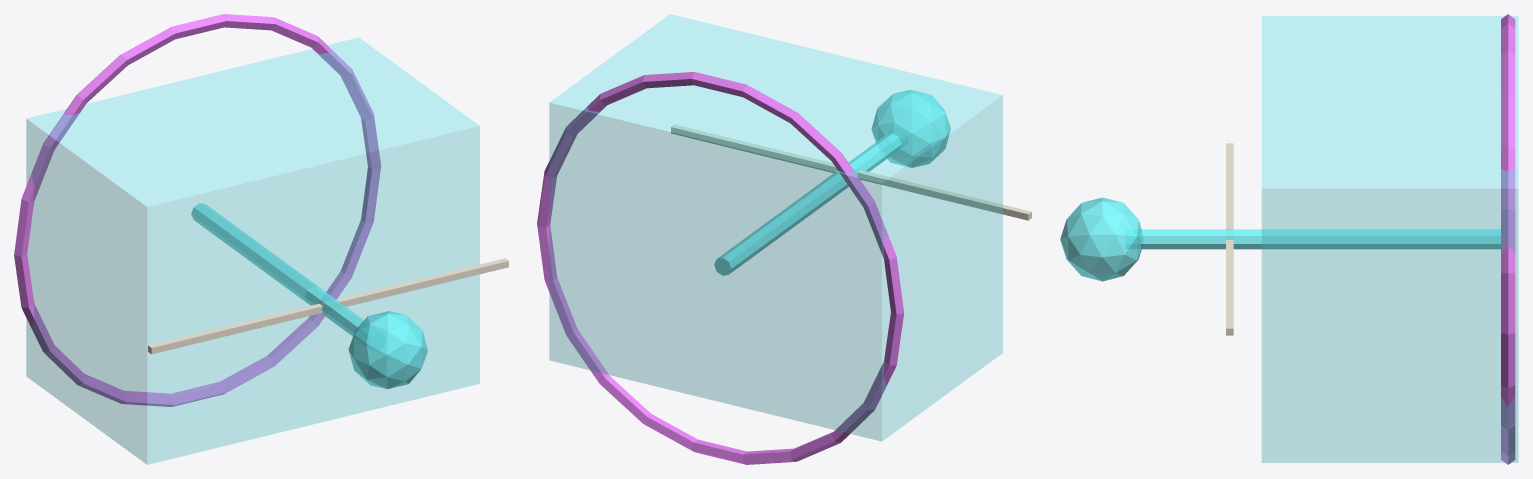
Rendered from 05_dynamic_camera_trigger.glb.
The picture shows the model from 3 angles, left to right: view 1: azimuth 30°, elevation 25°; view 2: azimuth 150°, elevation 25°; view 3: azimuth 270°, elevation 25°; orthographic projection. The views are drawn at different scales.
Parts seen in each view (by area): view 1: camera_trigger_volume, combat_start_ring, focus_target, focus_target_pole, camera_axis; view 2: camera_trigger_volume, combat_start_ring, focus_target, focus_target_pole, camera_axis; view 3: camera_trigger_volume, focus_target_pole, combat_start_ring, focus_target, camera_axis.
Part boxes in pixels (bbox=[...]): camera_trigger_volume: bbox=[26, 37, 479, 464]; combat_start_ring: bbox=[14, 14, 380, 406]; focus_target: bbox=[348, 311, 427, 389]; focus_target_pole: bbox=[191, 203, 364, 336]; camera_axis: bbox=[148, 258, 508, 354]; camera_trigger_volume: bbox=[549, 14, 1002, 441]; combat_start_ring: bbox=[537, 72, 904, 464]; focus_target: bbox=[871, 90, 950, 167]; focus_target_pole: bbox=[714, 133, 901, 275]; camera_axis: bbox=[671, 124, 1031, 220]; camera_trigger_volume: bbox=[1262, 16, 1518, 462]; focus_target_pole: bbox=[1141, 229, 1500, 249]; combat_start_ring: bbox=[1501, 14, 1515, 464]; focus_target: bbox=[1060, 197, 1141, 281]; camera_axis: bbox=[1226, 143, 1233, 335].
Bounding box in the file's own units: 1.49 × 1.47 × 1.51.
